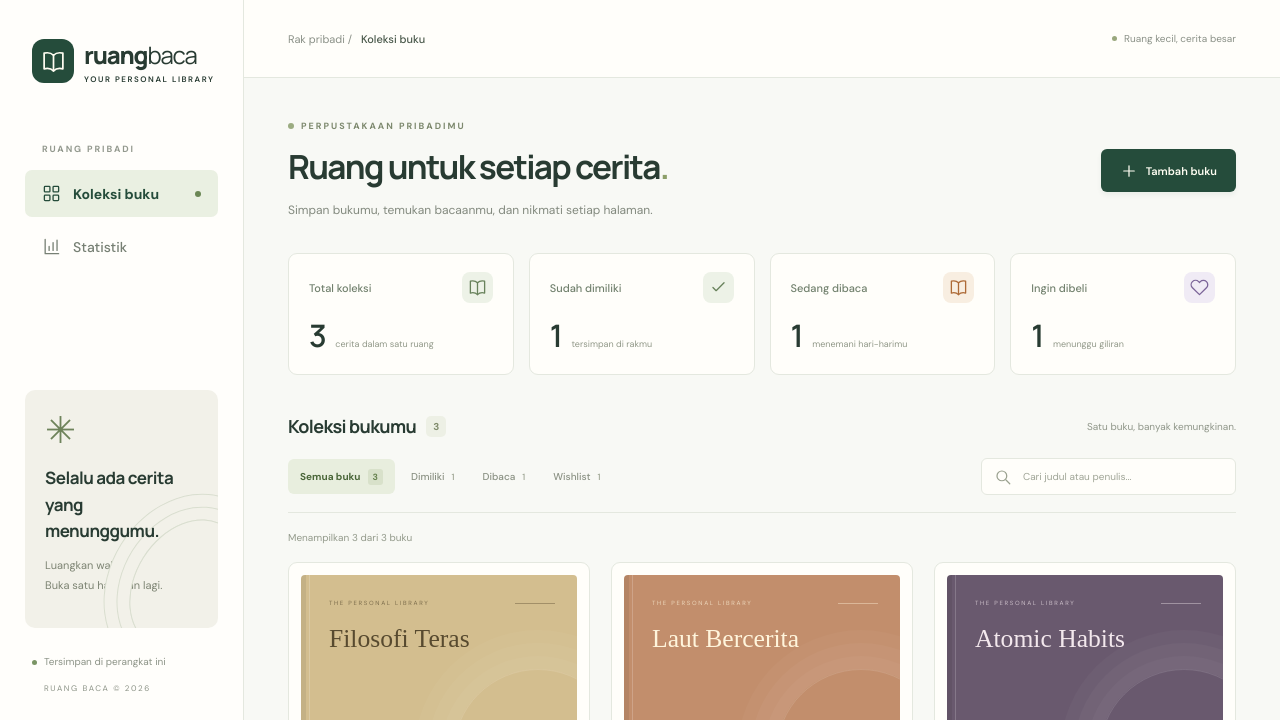
it: Aplikasi manajemen buku › memfilter berdasarkan status dan menggabungkannya dengan pencarian penulis
The image size is (1280, 720).
Step 1. Click the button "Dibaca 1" → x=504, y=477, box 470,459 -> 537,494
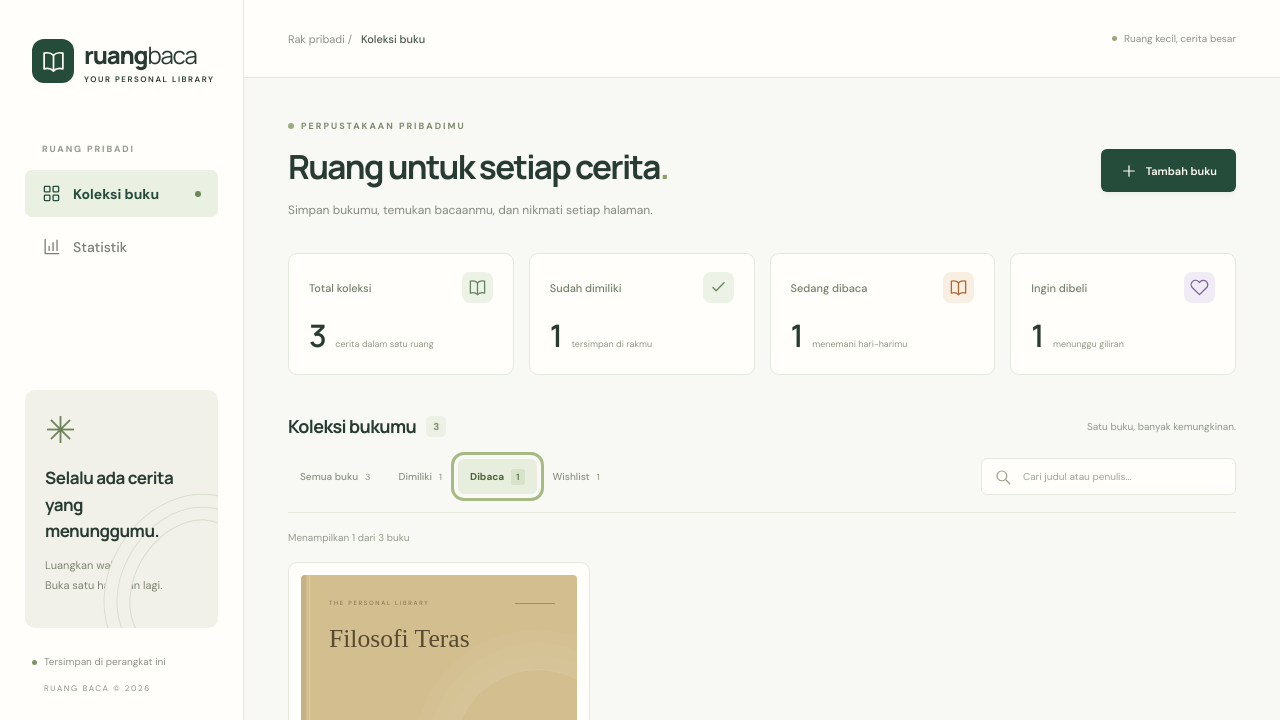
expect the text "Laut Bercerita" is gone: met
Step 2. Type "  HENRY  " into the search field → x=1122, y=477, box 1021,469 -> 1223,484
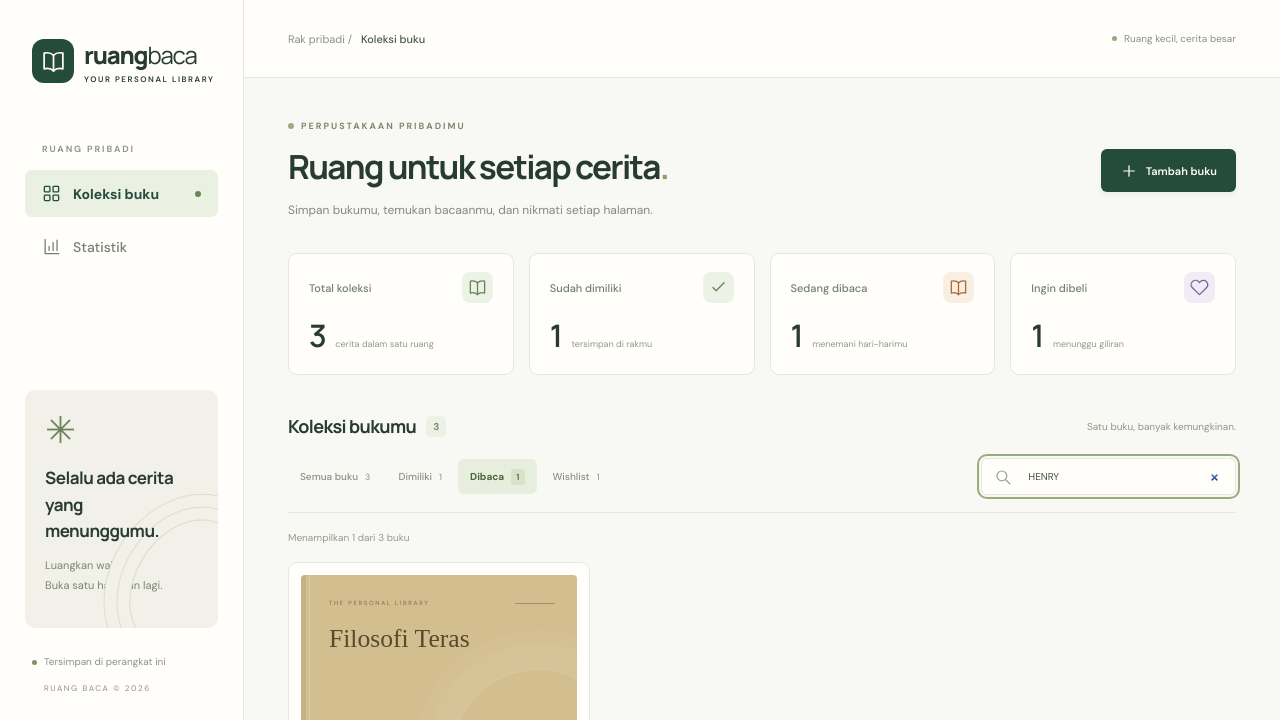
Step 3. Replace the text in the search field with "James" → x=1122, y=477, box 1021,469 -> 1223,484
(page scrolled)
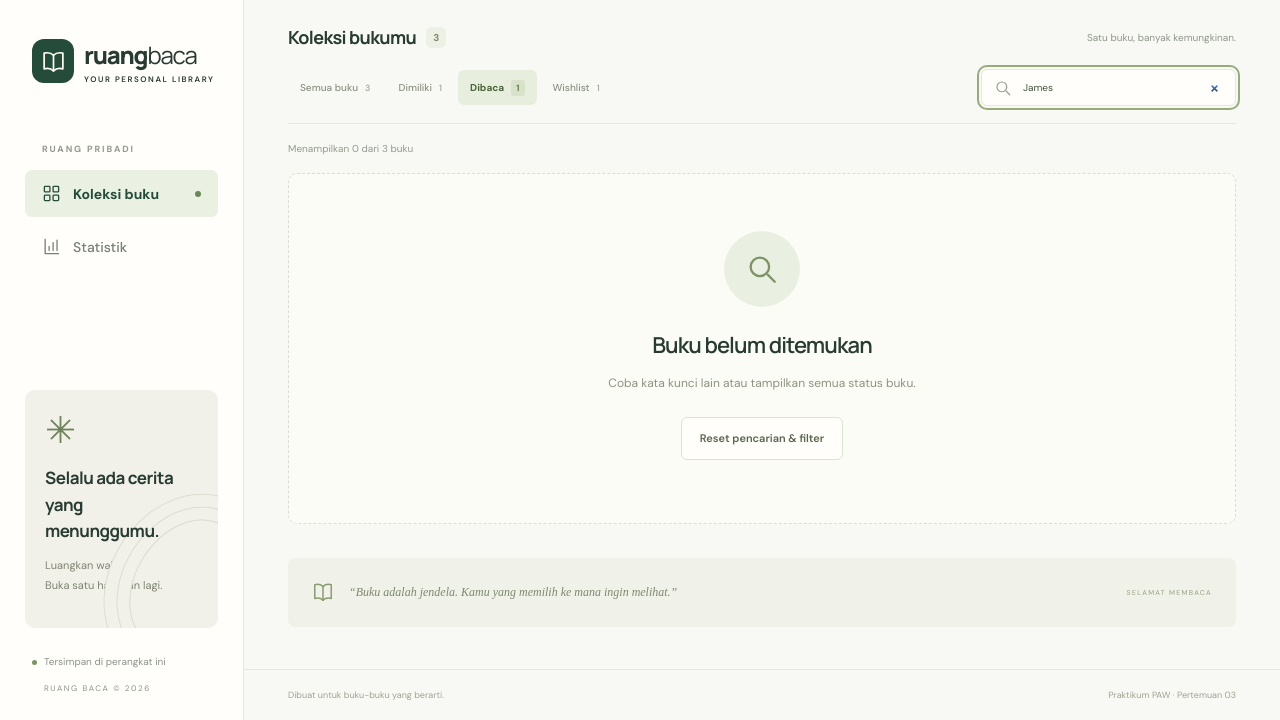
expect the heading "Buku belum ditemukan" is shown: met, box 652,330 -> 872,360
Step 4. Click the button "Reset pencarian & filter" → x=762, y=438, box 681,417 -> 843,460
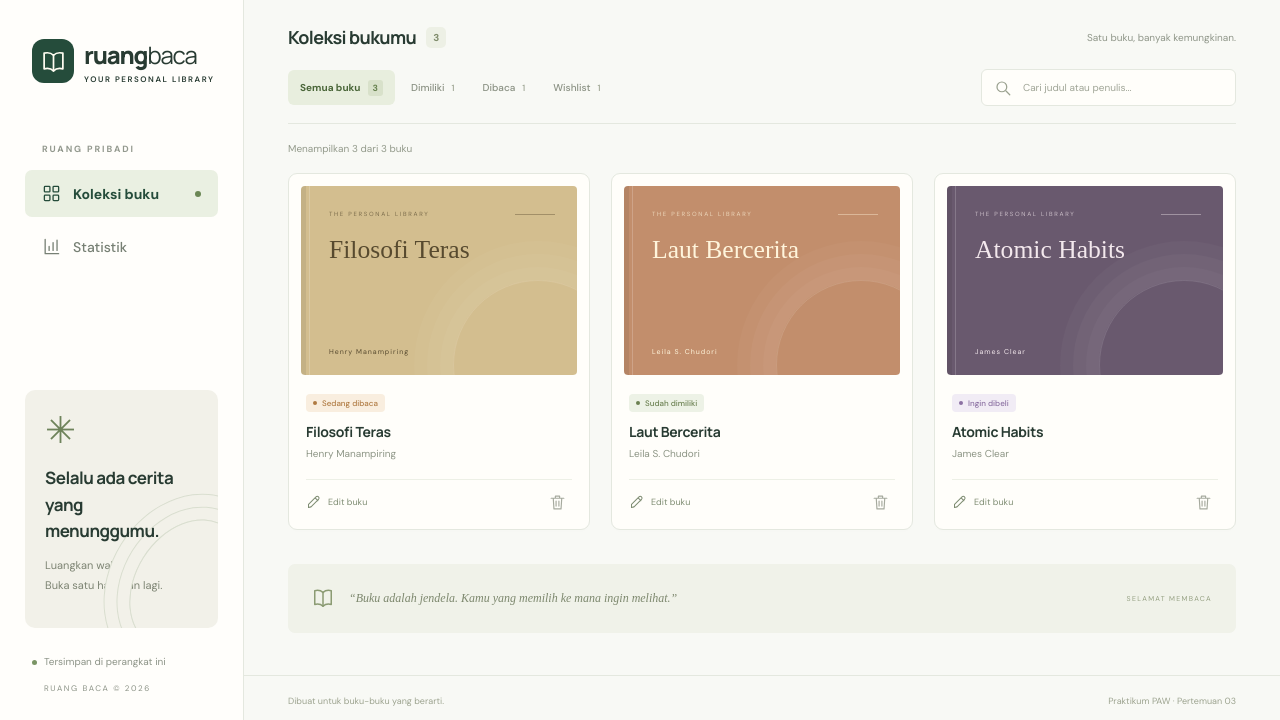
expect the heading "Atomic Habits" is shown: met, box 952,422 -> 1043,441
